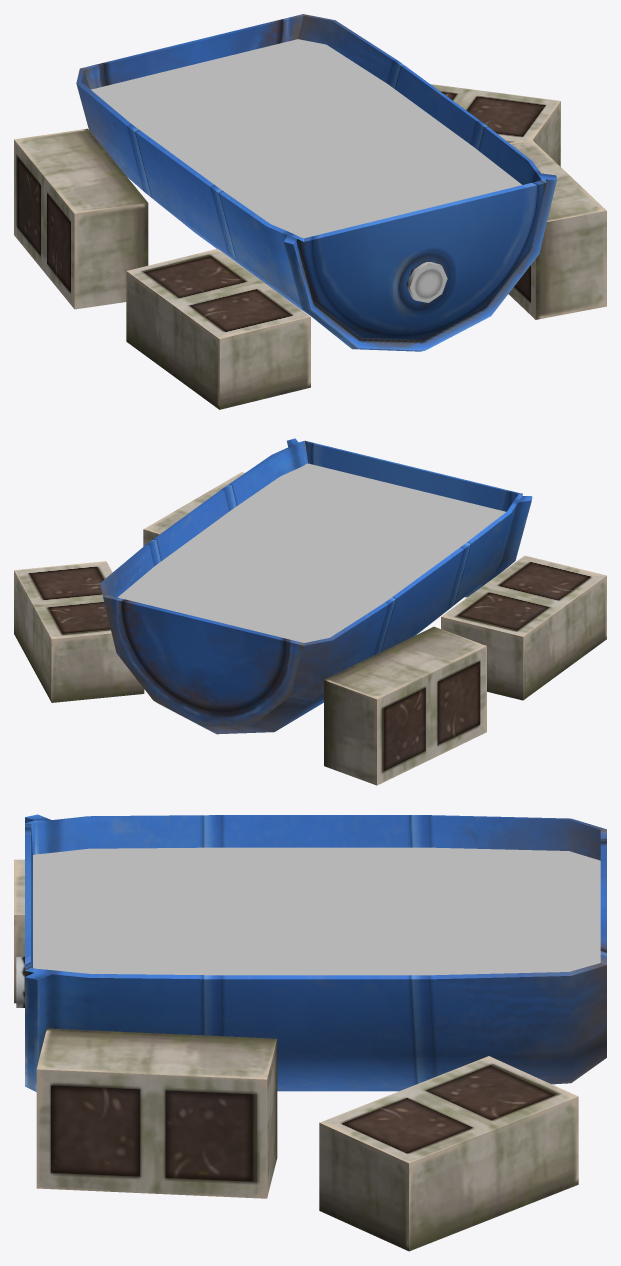
File: raisedBed_barrel02.fbx
3 renders of one model, top to bottom at view 1: azimuth 30°, elevation 25°; view 2: azimuth 150°, elevation 25°; view 3: azimuth 270°, elevation 25°, orthographic. The views are drawn at different scales.
Parts seen in each view (by area): view 1: raisedBed_barrel02; view 2: raisedBed_barrel02; view 3: raisedBed_barrel02.
Boxes of the visible parts, <box> form: raisedBed_barrel02: <box>14,14,606,409</box>; raisedBed_barrel02: <box>14,438,606,785</box>; raisedBed_barrel02: <box>14,814,606,1251</box>.
Size of the model in its own units: 115 by 31.43 by 94.07.
